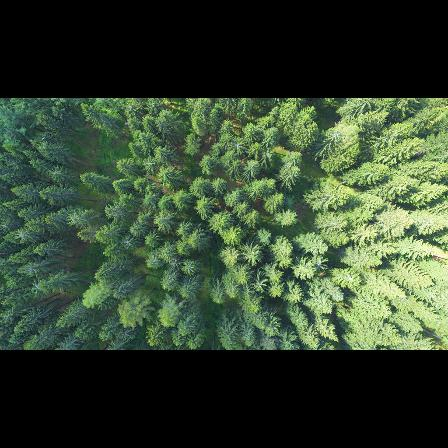Sick: (309, 256, 332, 275), (252, 273, 270, 294), (120, 235, 139, 253), (181, 259, 201, 276), (230, 139, 248, 157), (14, 227, 29, 242)
